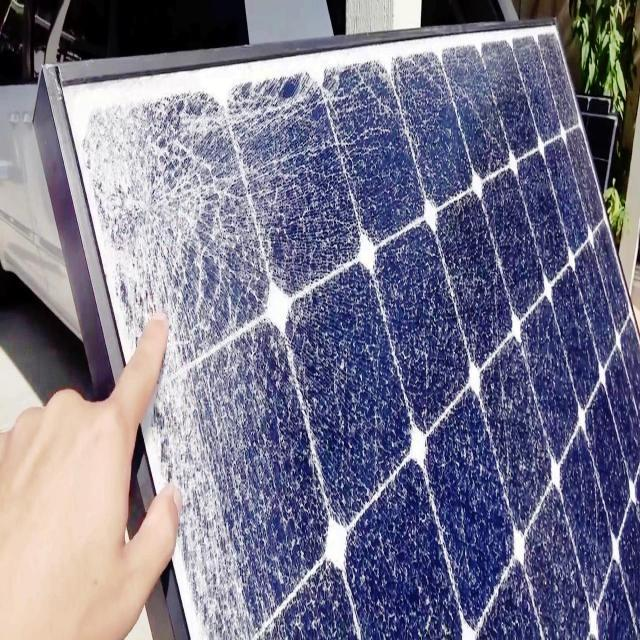faulty: (54, 28, 640, 640)
